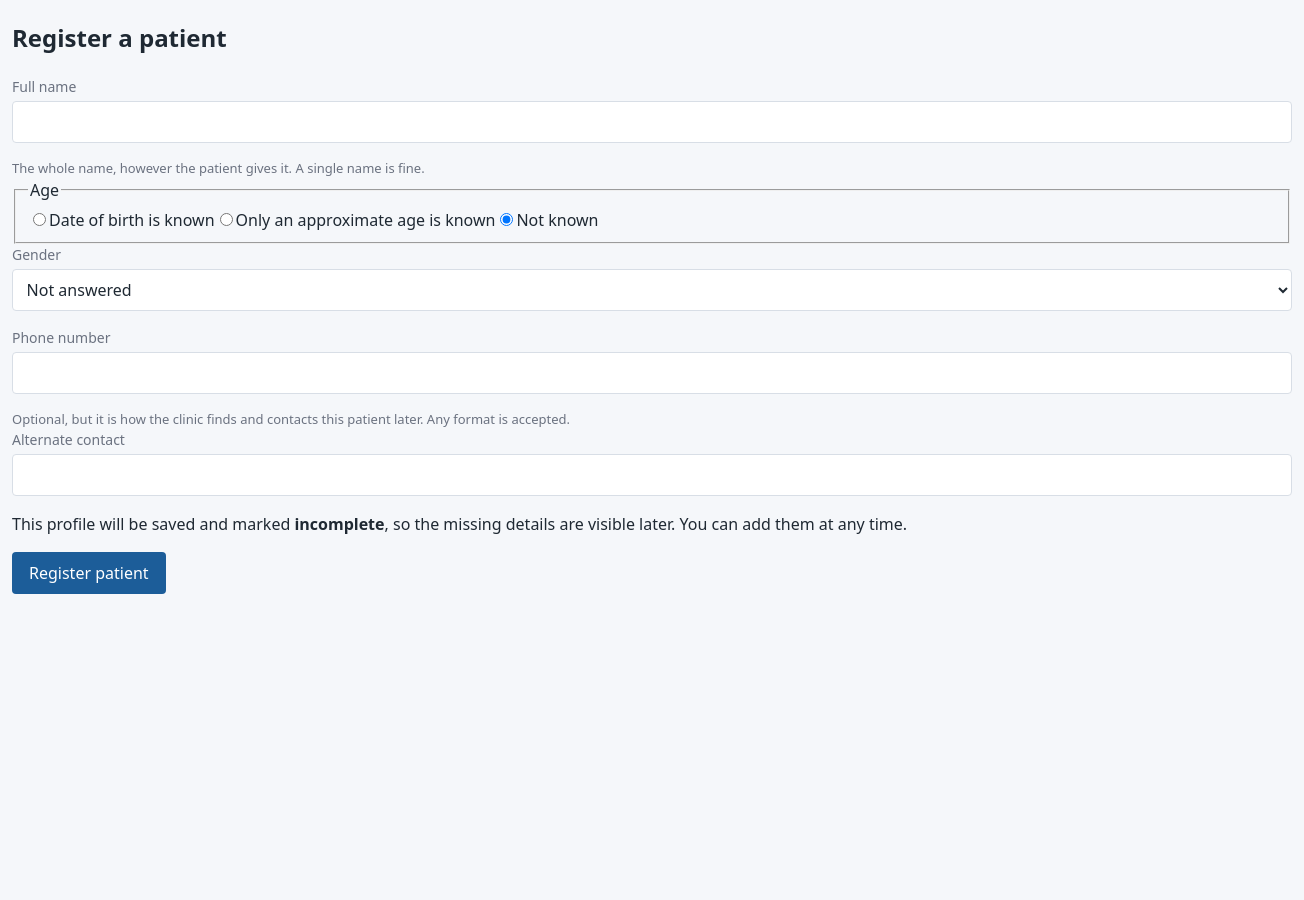
Test case: PatientForm duplicate handling (F-6) › warns before Save once a name and phone have been entered
The width and height of the screenshot is (1304, 900).
Step 1. Type "Ravi Kumar" into the field labelled "Full name" → (652, 122), box [12,101,1292,143]
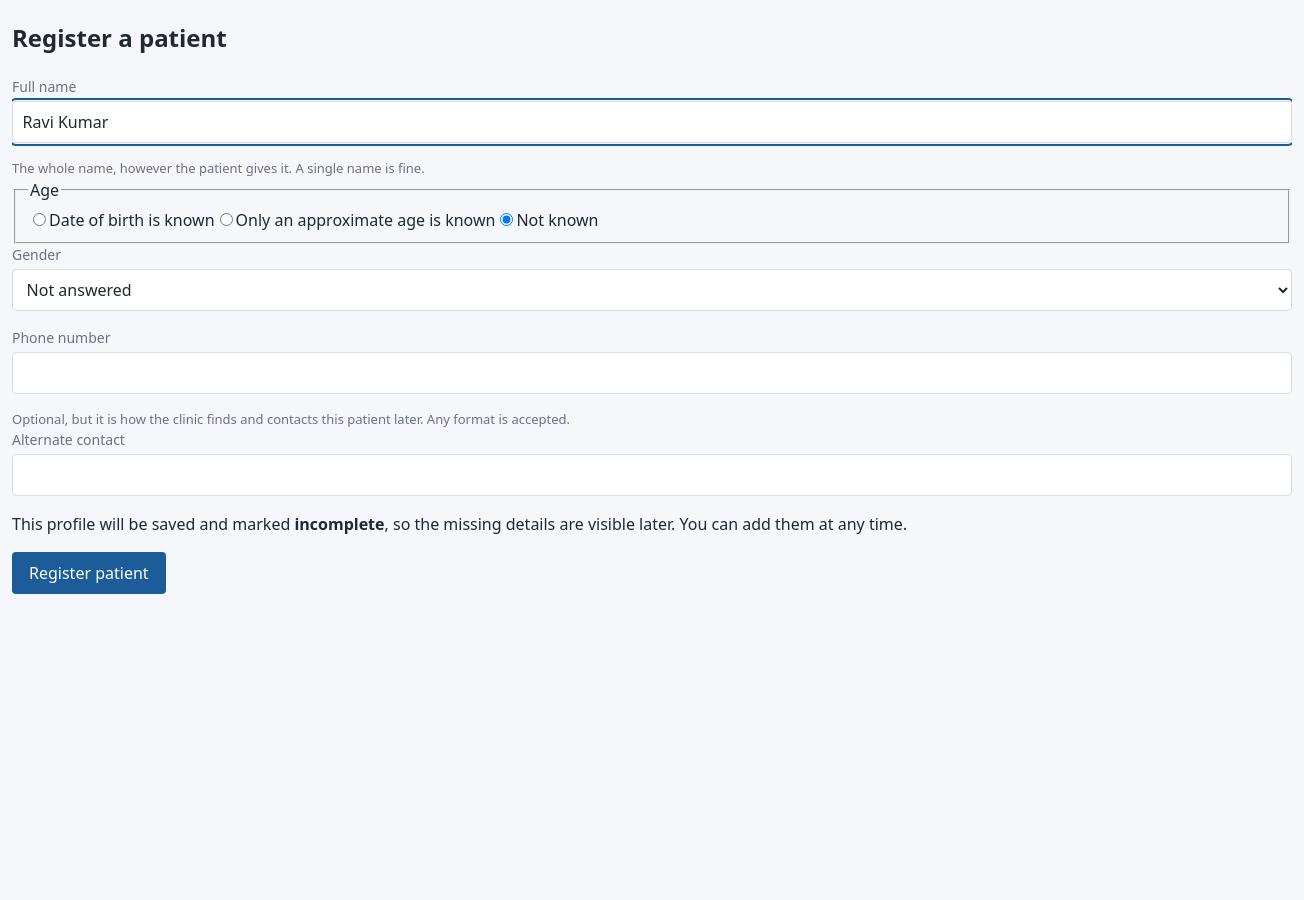
Step 2. Type "98765 43210" into the field labelled "Phone number" → (652, 373), box [12,352,1292,394]
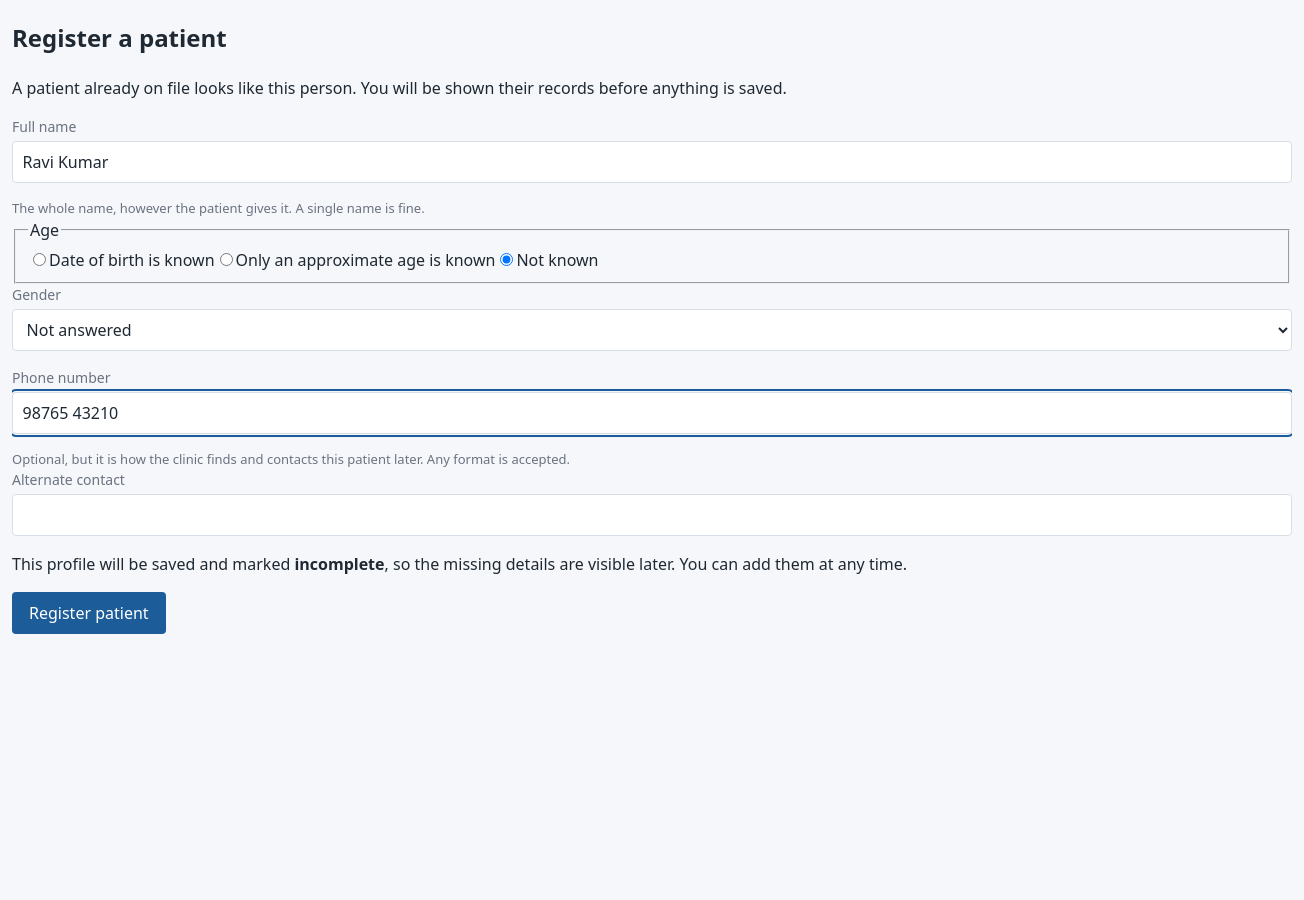
Check: the text "A patient already on file looks like this person" is shown, box [12,77,361,99]
